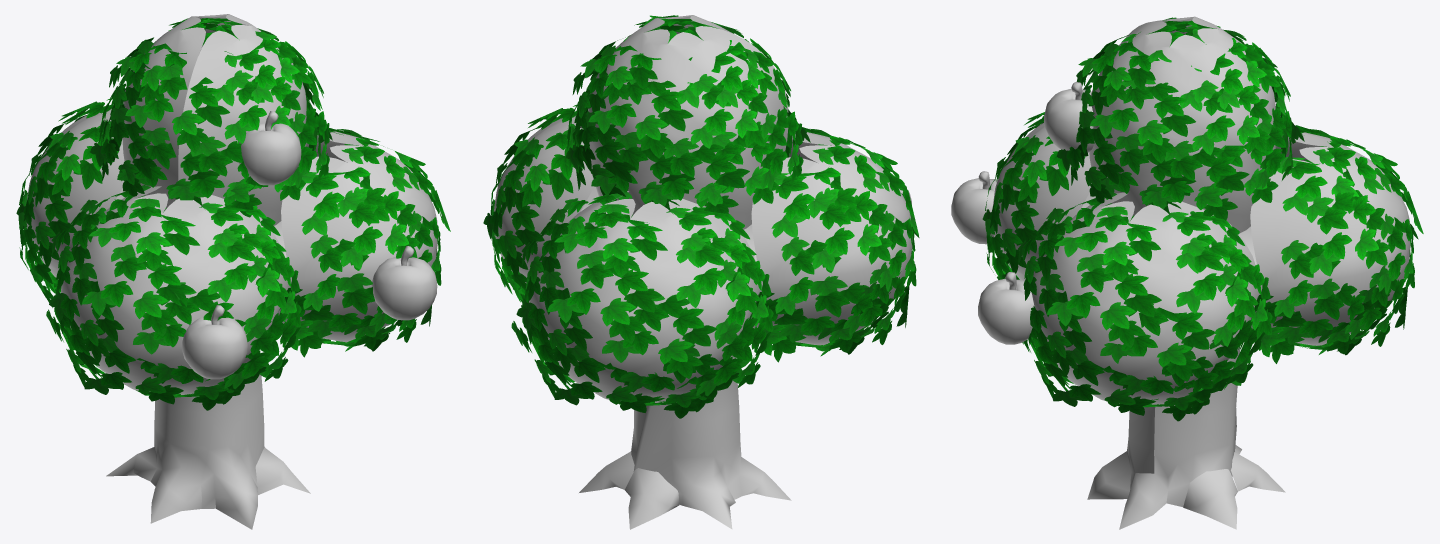
Rendered from Animal Crossing Apple Tree.fbx.
The picture shows the model from 3 angles, left to right: view 1: azimuth 30°, elevation 25°; view 2: azimuth 150°, elevation 25°; view 3: azimuth 270°, elevation 25°; orthographic projection.
Parts seen in each view (by area): view 1: Leaf186_1__ac_bigtree_leafA.001; view 2: Leaf186_1__ac_bigtree_leafA.001; view 3: Leaf186_1__ac_bigtree_leafA.001.
Part boxes in pixels (bbox=[...]): Leaf186_1__ac_bigtree_leafA.001: bbox=[16, 14, 450, 529]; Leaf186_1__ac_bigtree_leafA.001: bbox=[483, 15, 919, 529]; Leaf186_1__ac_bigtree_leafA.001: bbox=[951, 16, 1423, 529].
Size of the model in its own units: 394 by 457 by 411.
